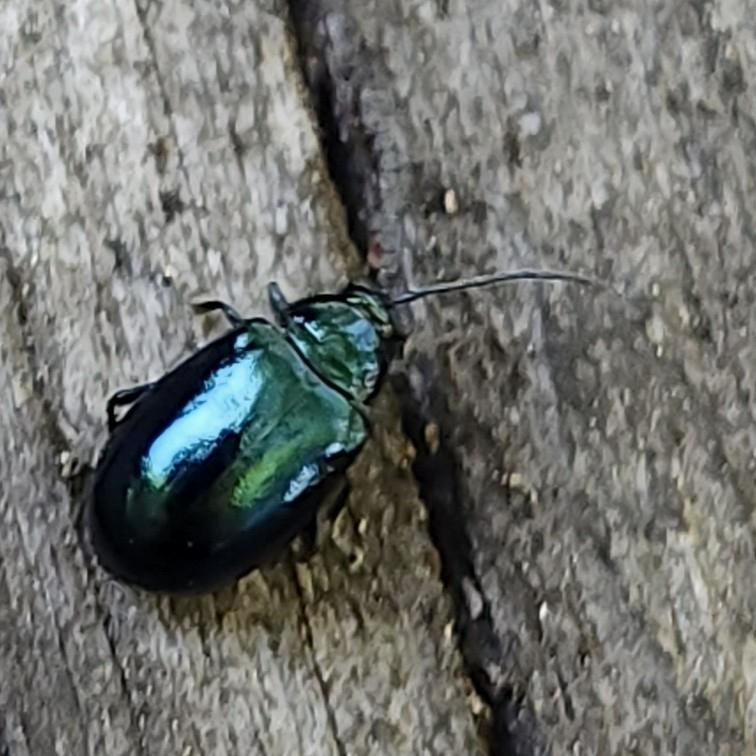flea_beetle: (7, 182, 681, 664)
